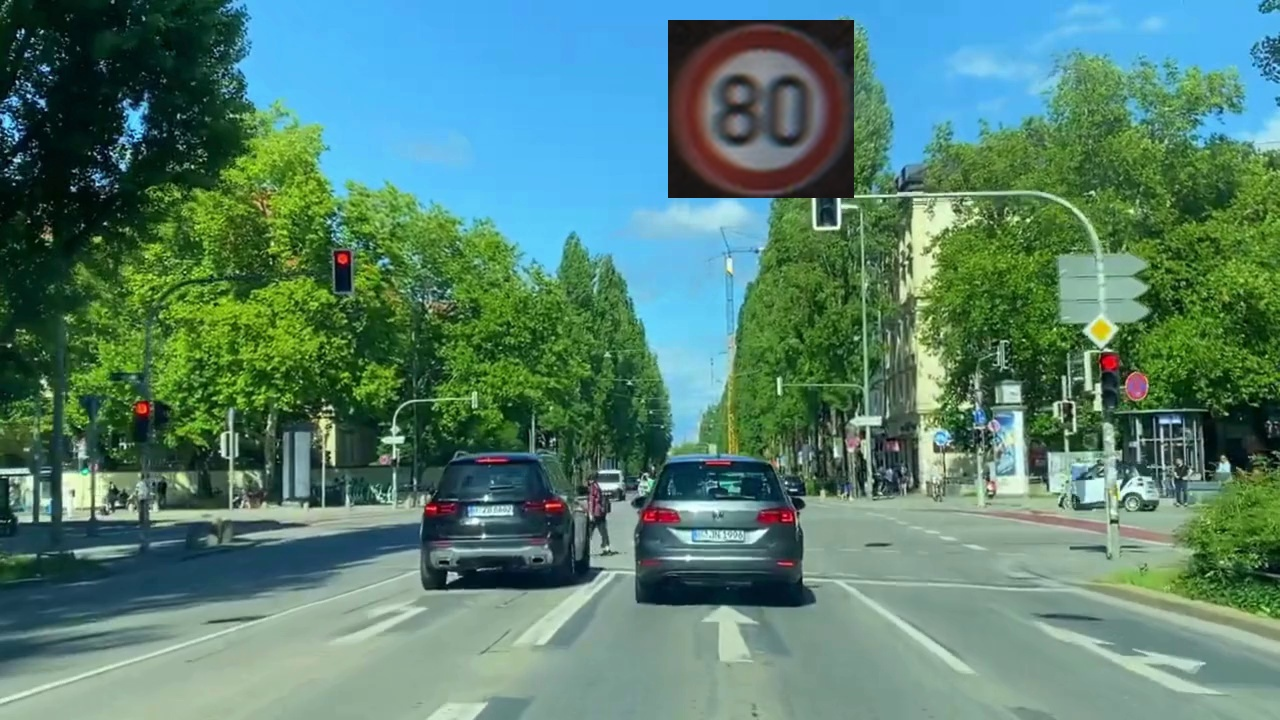Speed 80: (668, 20, 854, 198)
